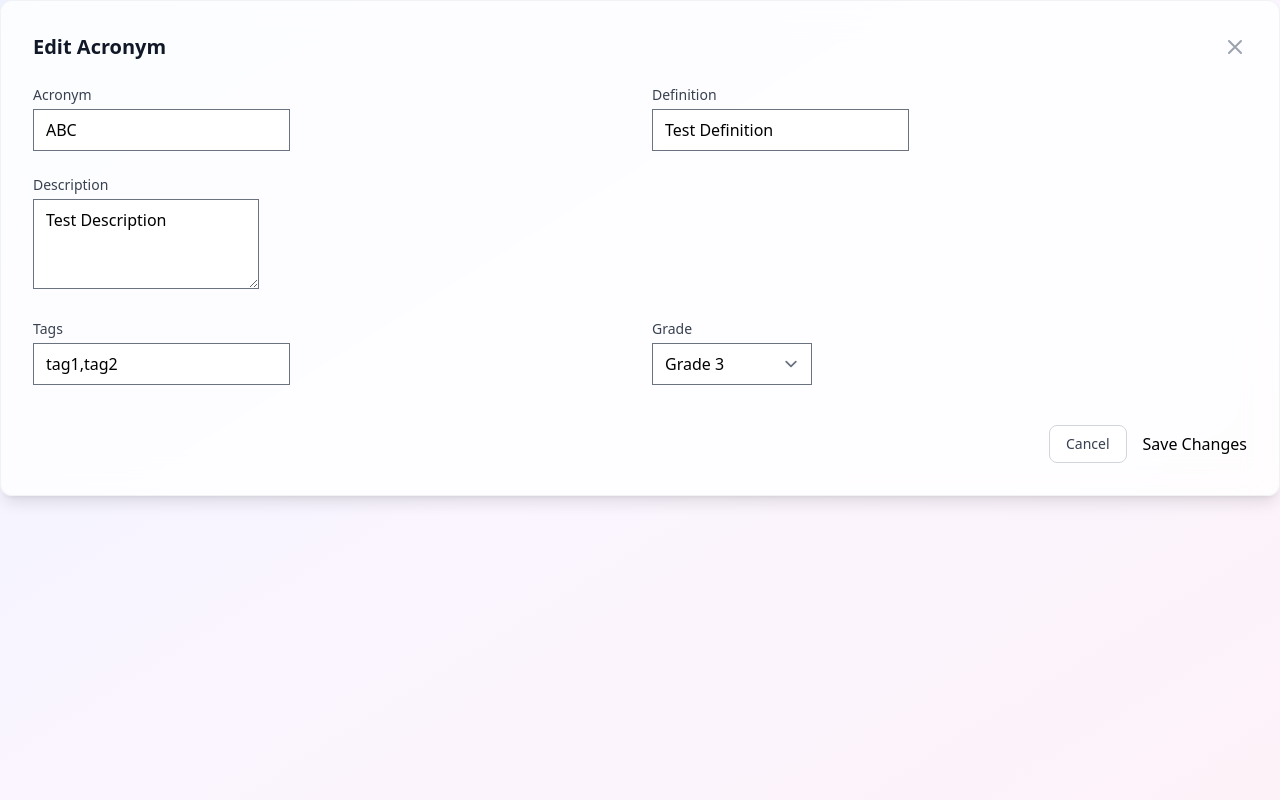
Test: EditAcronym Component › clears validation errors when fields are filled
Clear required field
Step 1. Clear the field labelled "Definition" → (780, 130), box [652,109,909,151]
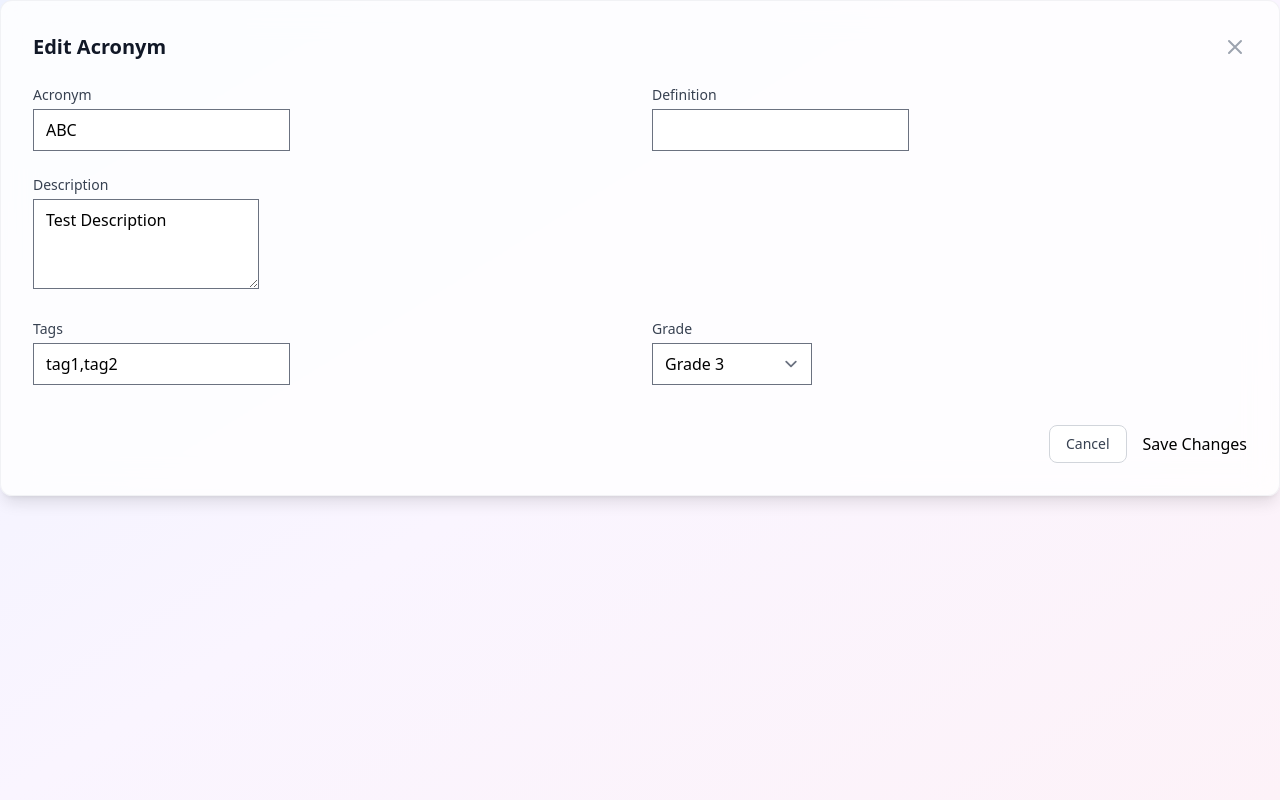
Submit form to show error
Step 2. Submit the form, box [33,85,1247,463]
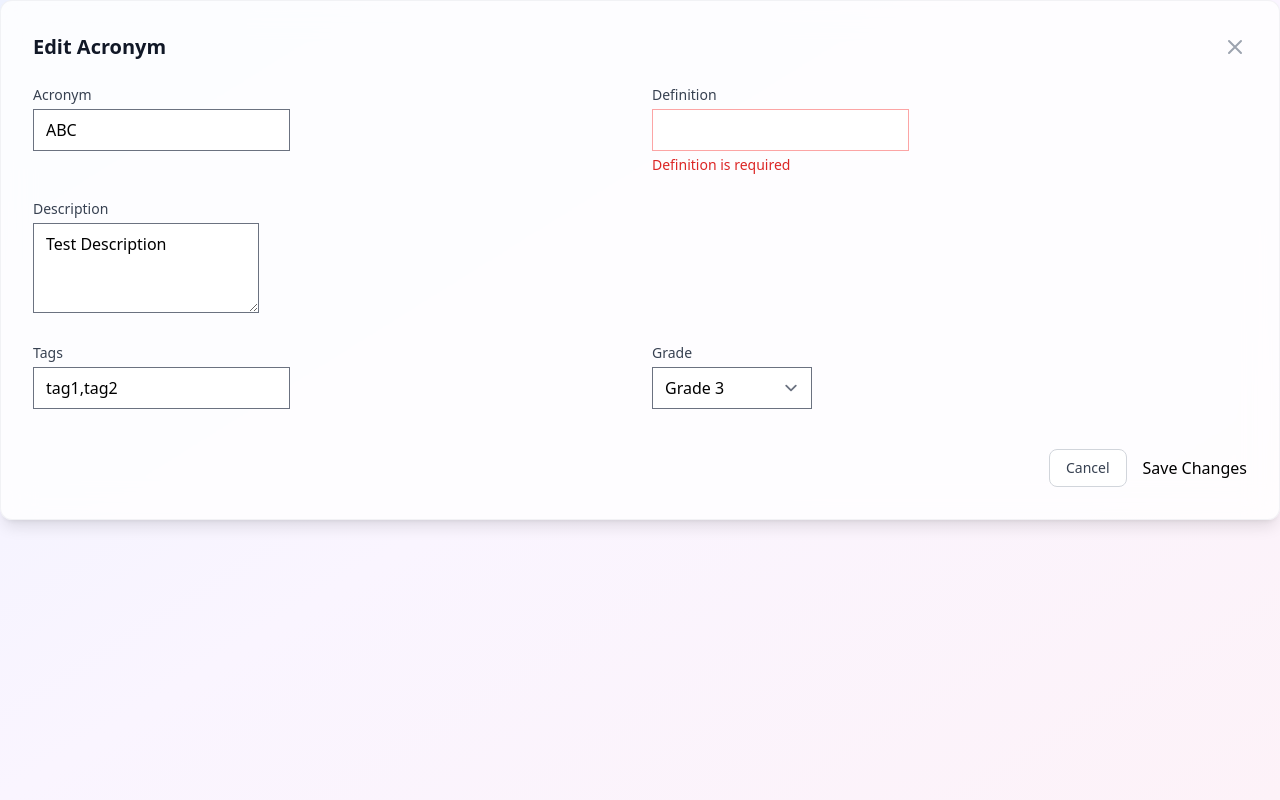
Expected: the text "Definition is required" is shown, [652,155,790,174]
Fill the field
Step 3. Type "New Definition" into the field labelled "Definition" → (780, 130), box [652,109,909,151]
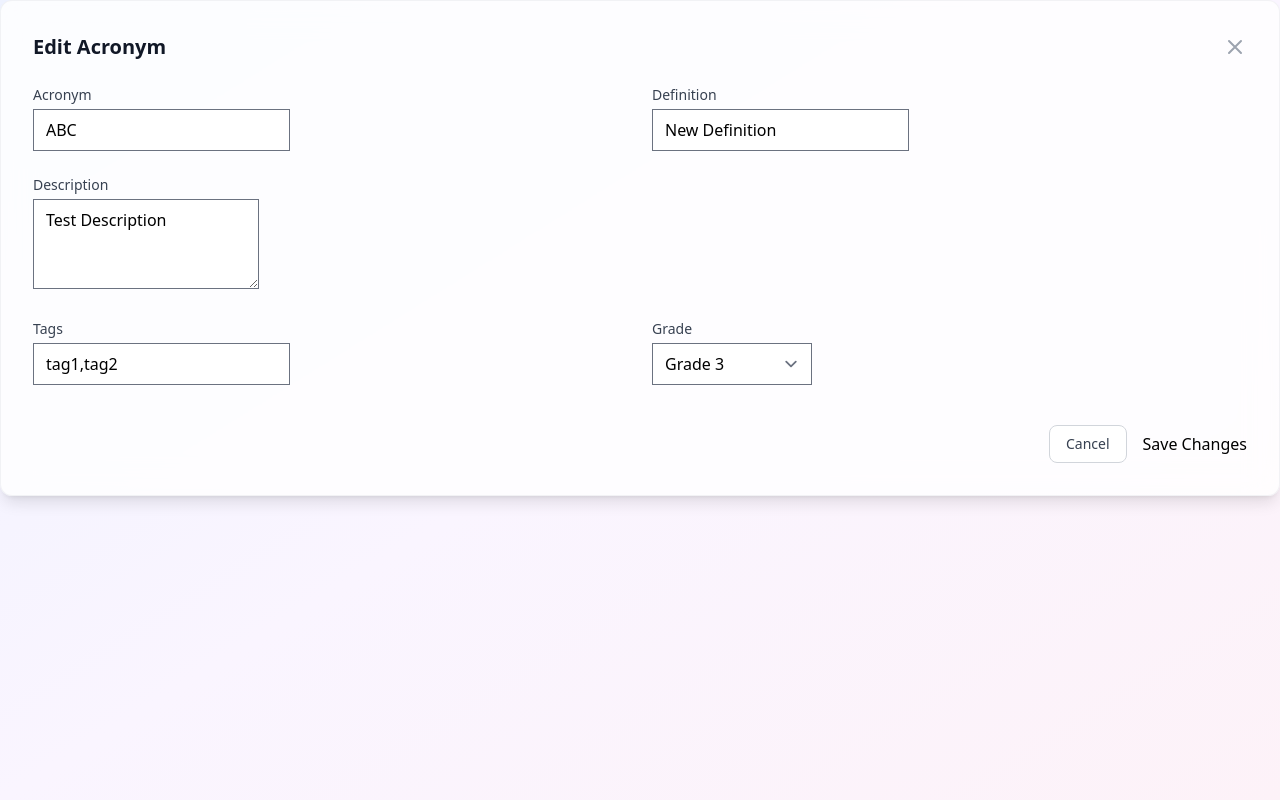
Expected: the text "Definition is required" is gone
